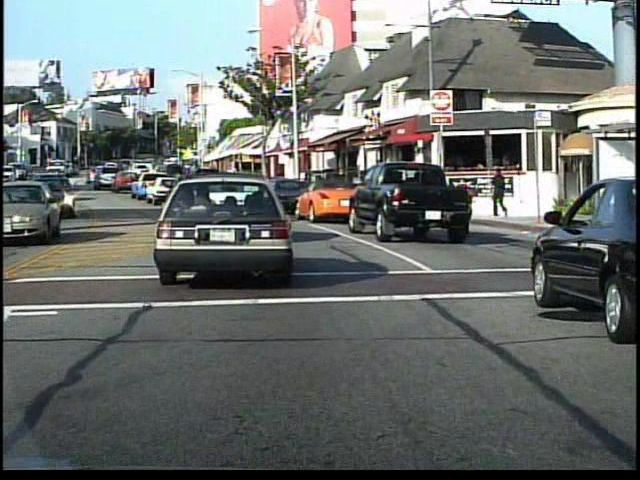person: (490, 168, 510, 223)
